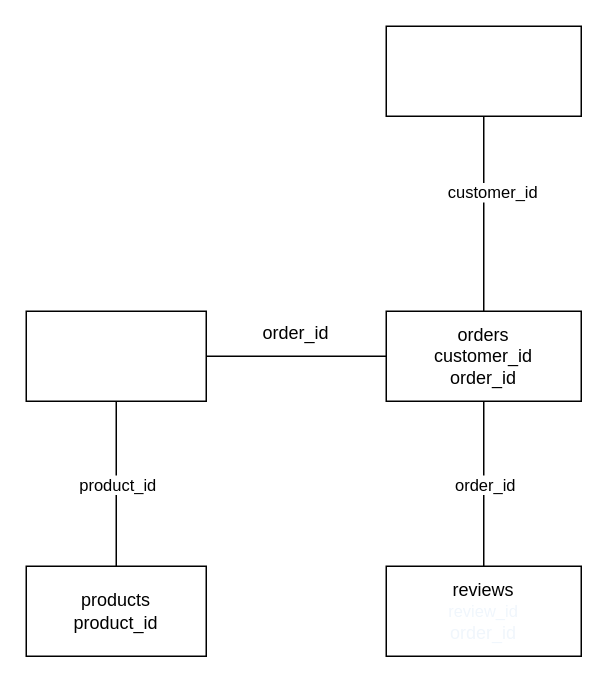
Image size: 608x683. Some labels were removed from this diagram. The shapes that lost their labels are listed below. From the top down, each one's box as (x1, y1, x2, y2) in pixels, then its label:
(385, 25, 581, 116): customer customer_id
(25, 310, 206, 401): order_Items order_id order_item_id product_id
